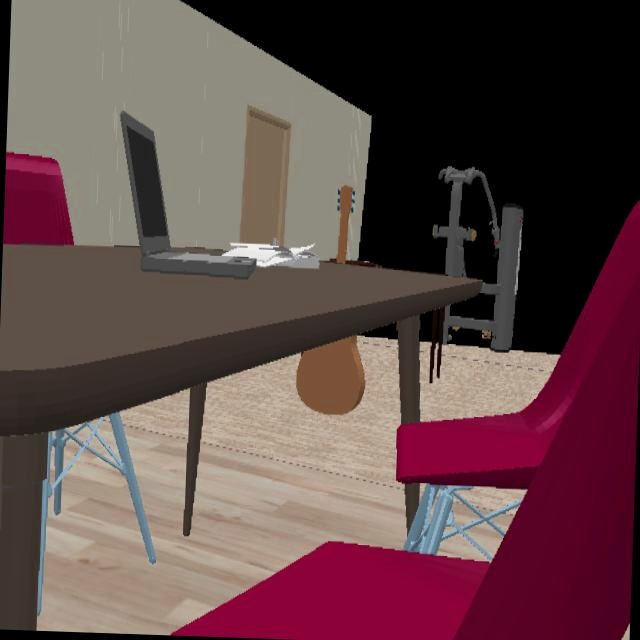chair: (172, 202, 640, 640), (52, 413, 157, 562), (2, 153, 72, 245)
laptop: (120, 114, 253, 281)
table: (0, 245, 484, 630)
